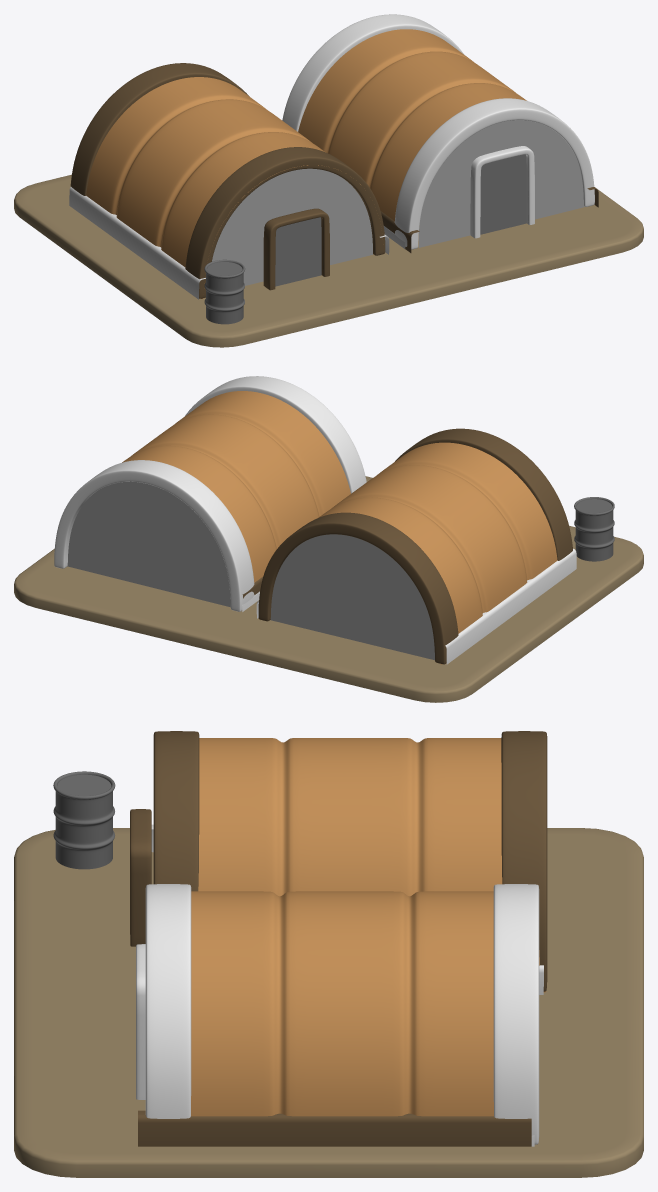
3 views of the same model, one above another, from view 1: azimuth 30°, elevation 25°; view 2: azimuth 150°, elevation 25°; view 3: azimuth 270°, elevation 25° (orthographic). The views are drawn at different scales.
Parts seen in each view (by area): view 1: Plane.sdgfhbsdfg, Cylinder.005, Cylinder.012, Cylinder.004, Cylinder.006, Cylinder.001, Cylinder.003, Plane.014, Plane.007, Plane.044, Circle.018, Plane.015 (+1 smaller); view 2: Plane.sdgfhbsdfg, Cylinder.005, Cylinder.012, Cylinder.003, Cylinder.001, Cylinder.004, Cylinder.006, Plane.007, Circle.018; view 3: Plane.sdgfhbsdfg, Cylinder.012, Cylinder.005, Cylinder.004, Cylinder.006, Plane.005, Circle.018, Plane.043, Plane.015.
Boxes of the visible parts, x1,y1,x2,y2 form: Plane.sdgfhbsdfg: [14, 174, 643, 347]; Cylinder.005: [86, 77, 383, 298]; Cylinder.012: [298, 29, 526, 220]; Cylinder.004: [282, 14, 594, 249]; Cylinder.006: [70, 63, 385, 298]; Cylinder.001: [419, 120, 584, 247]; Cylinder.003: [212, 168, 372, 285]; Plane.014: [480, 154, 526, 234]; Plane.007: [69, 187, 389, 299]; Plane.044: [275, 217, 321, 286]; Circle.018: [204, 259, 245, 324]; Plane.015: [470, 146, 534, 238]; Plane.sdgfhbsdfg: [14, 476, 643, 702]; Cylinder.005: [318, 442, 557, 664]; Cylinder.012: [122, 391, 350, 582]; Cylinder.003: [270, 534, 434, 660]; Cylinder.001: [67, 481, 230, 607]; Cylinder.004: [54, 376, 366, 611]; Cylinder.006: [258, 428, 572, 664]; Plane.007: [256, 548, 576, 664]; Circle.018: [574, 497, 614, 561]; Plane.sdgfhbsdfg: [14, 828, 643, 1177]; Cylinder.012: [191, 891, 493, 1116]; Cylinder.005: [198, 738, 546, 992]; Cylinder.004: [145, 884, 539, 1144]; Cylinder.006: [153, 731, 547, 991]; Plane.005: [138, 1110, 531, 1146]; Circle.018: [53, 771, 115, 869]; Plane.043: [130, 809, 151, 946]; Plane.015: [136, 944, 145, 1099].
Bounding box in the file's own units: 1209 × 336 × 960.
